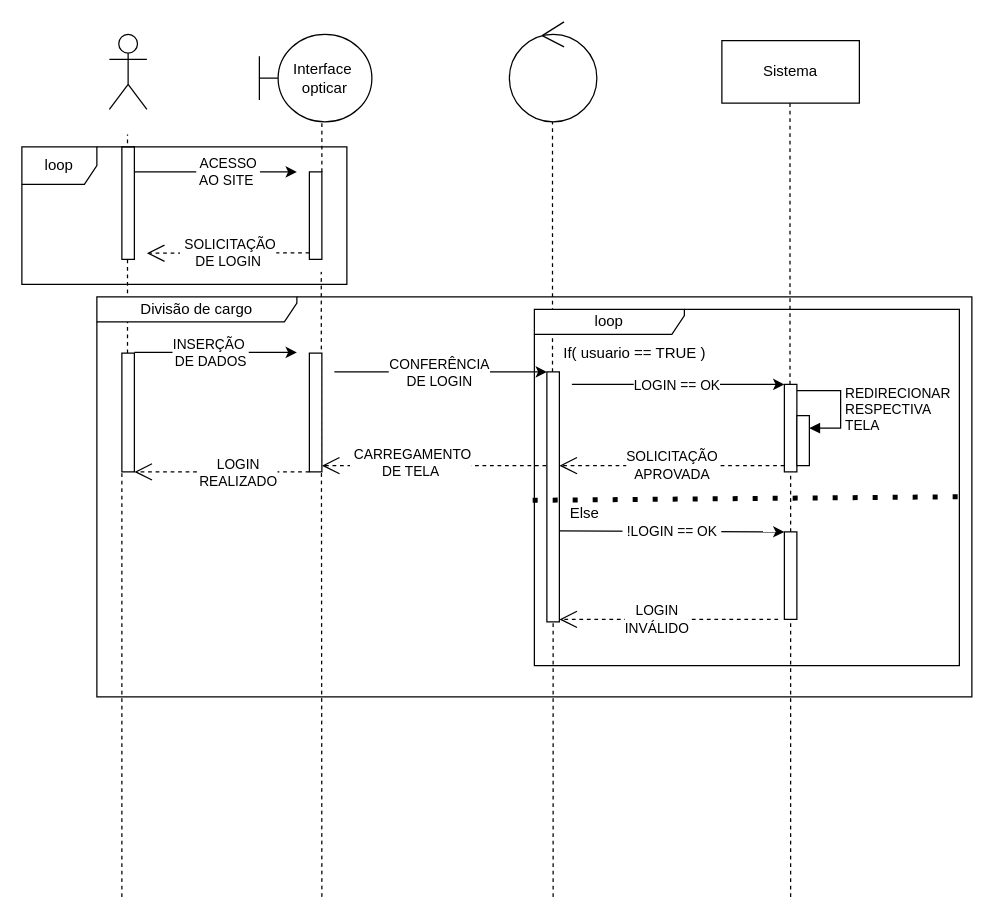
Image size: 994x920. Some labels were removed from this diagram. Each missing label, with the box of its shape:
Backend Opticar: (508, 21, 597, 122)
Usuario: (108, 33, 147, 109)
